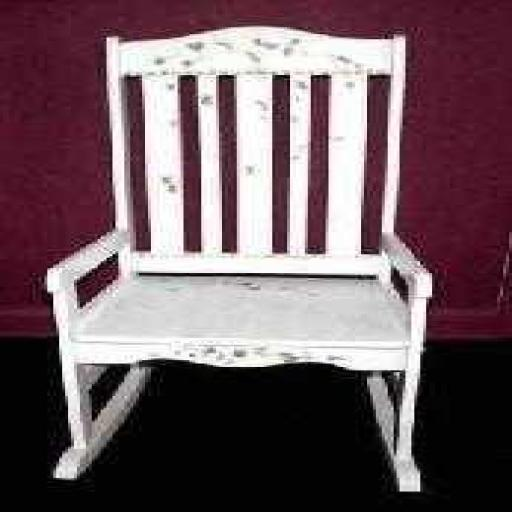chair: (37, 22, 451, 498)
